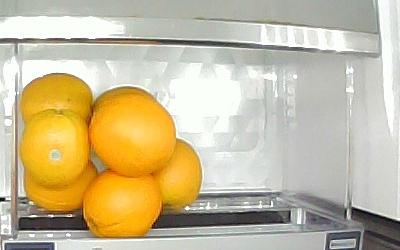orange: (88, 95, 176, 176), (82, 167, 161, 239), (21, 110, 92, 184), (137, 139, 203, 212), (21, 72, 94, 133), (23, 160, 97, 212), (93, 86, 155, 109)
